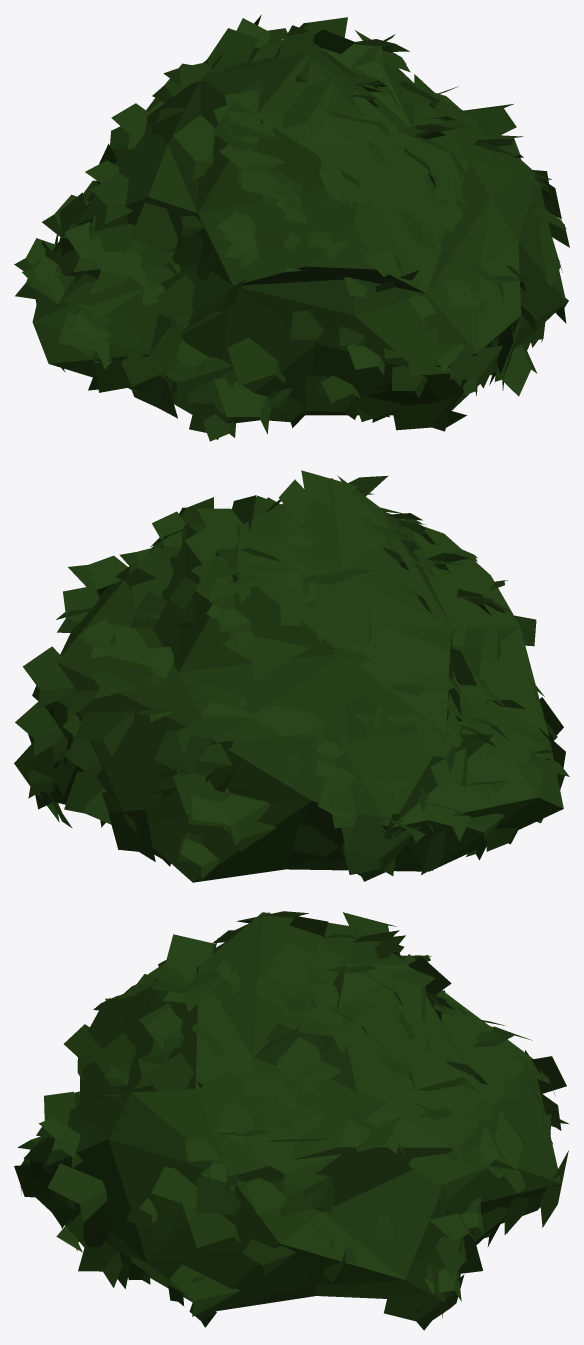
Rendered from bush-blackberry-mature-a.fbx.
3 renders of one model, top to bottom at view 1: azimuth 30°, elevation 25°; view 2: azimuth 150°, elevation 25°; view 3: azimuth 270°, elevation 25°, orthographic.
Parts seen in each view (by area): view 1: bush-blackberry-mature-a; view 2: bush-blackberry-mature-a; view 3: bush-blackberry-mature-a.
Boxes of the visible parts, box(x1,y1,x2,y2) form: bush-blackberry-mature-a: box(14, 15, 569, 441); bush-blackberry-mature-a: box(14, 470, 569, 882); bush-blackberry-mature-a: box(14, 911, 569, 1330).
Bounding box in the file's own units: 2638 × 1780 × 2658.
